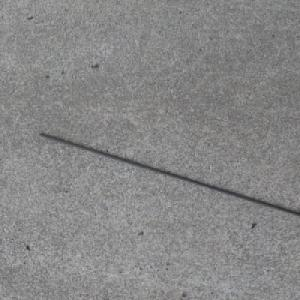LuggagePart: (37, 132, 300, 217)
